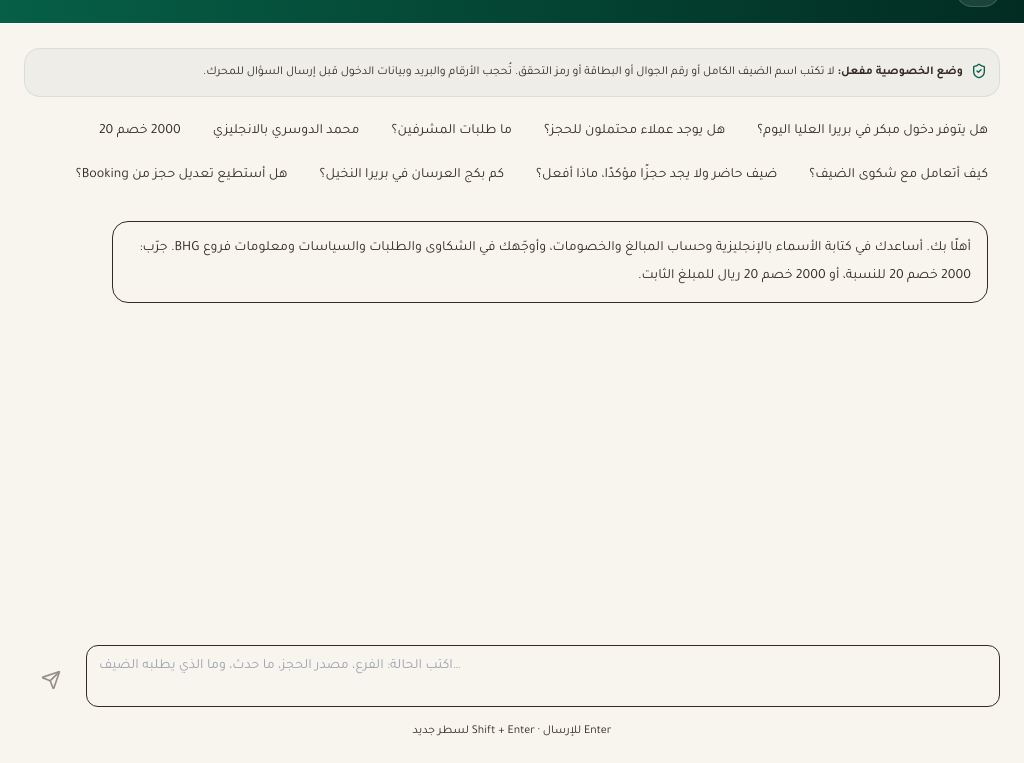
Test case: assistant UI › answers a greeting immediately without a POST request
(page scrolled)
Replace the text in the text box named "سؤالك لمساعد الحجز" with "السلام عليكم" at (543, 676), box [86,644,1000,706]
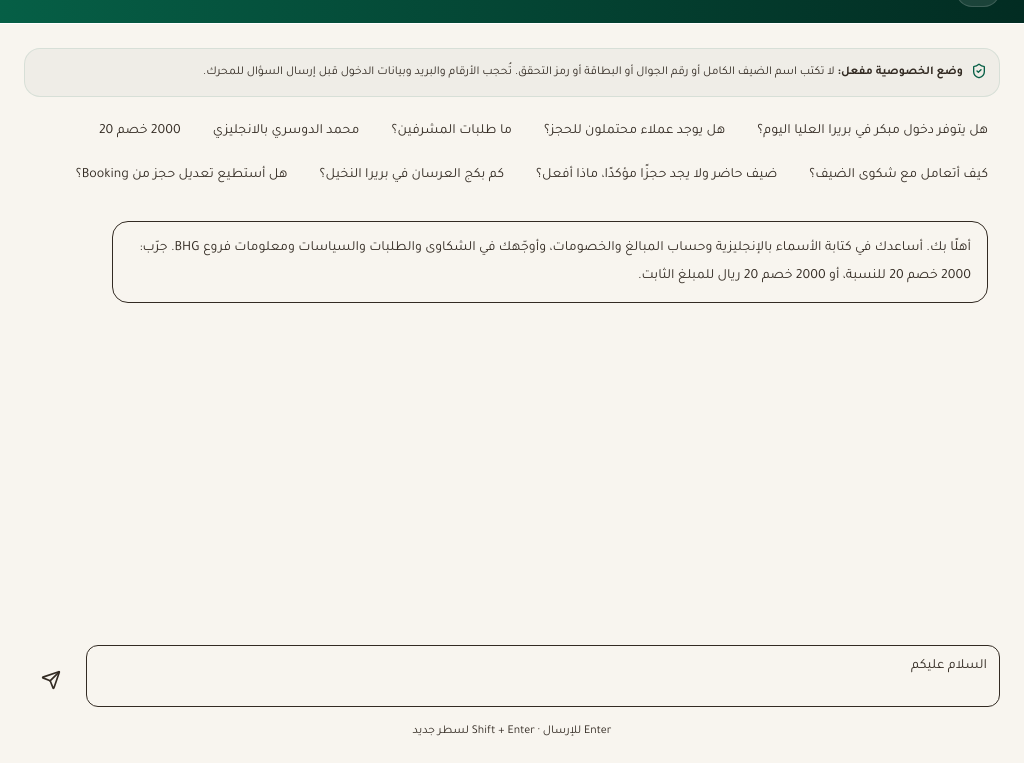
Press Enter in the text box named "سؤالك لمساعد الحجز", box [86,644,1000,706]
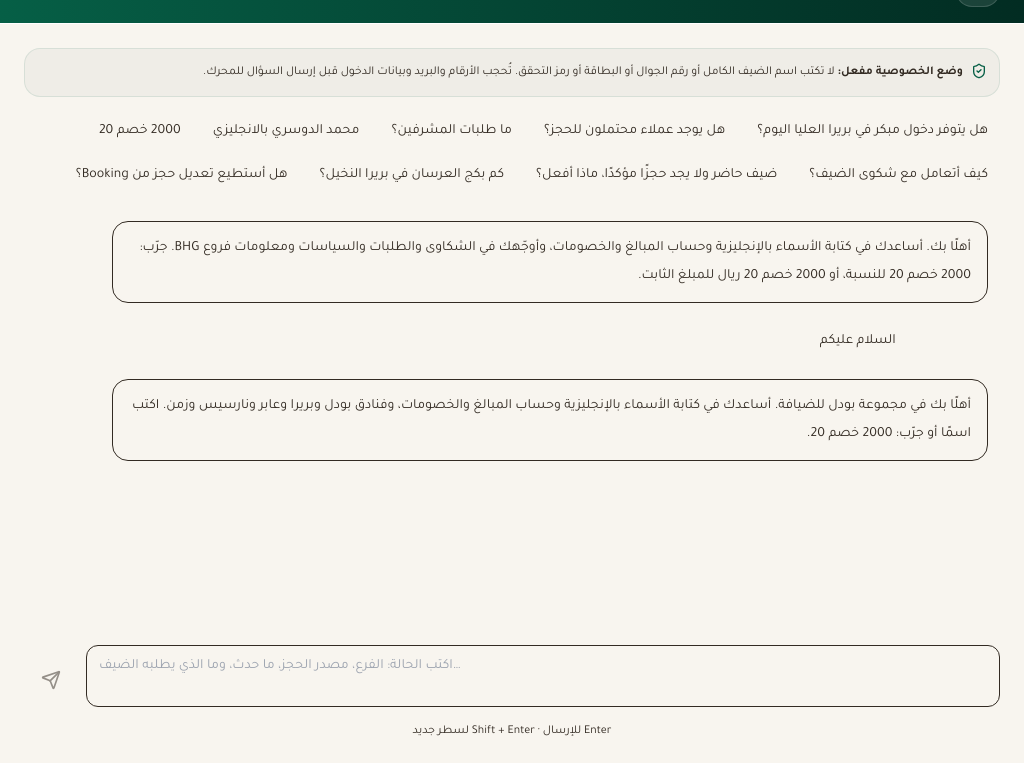
Expected: the text "أهلًا بك في مجموعة بودل للضيافة" is shown, [129,398,971,440]
